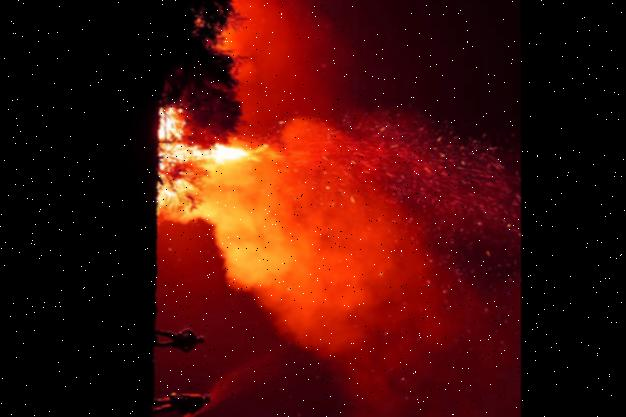fire: (157, 98, 332, 300), (188, 0, 293, 84)
